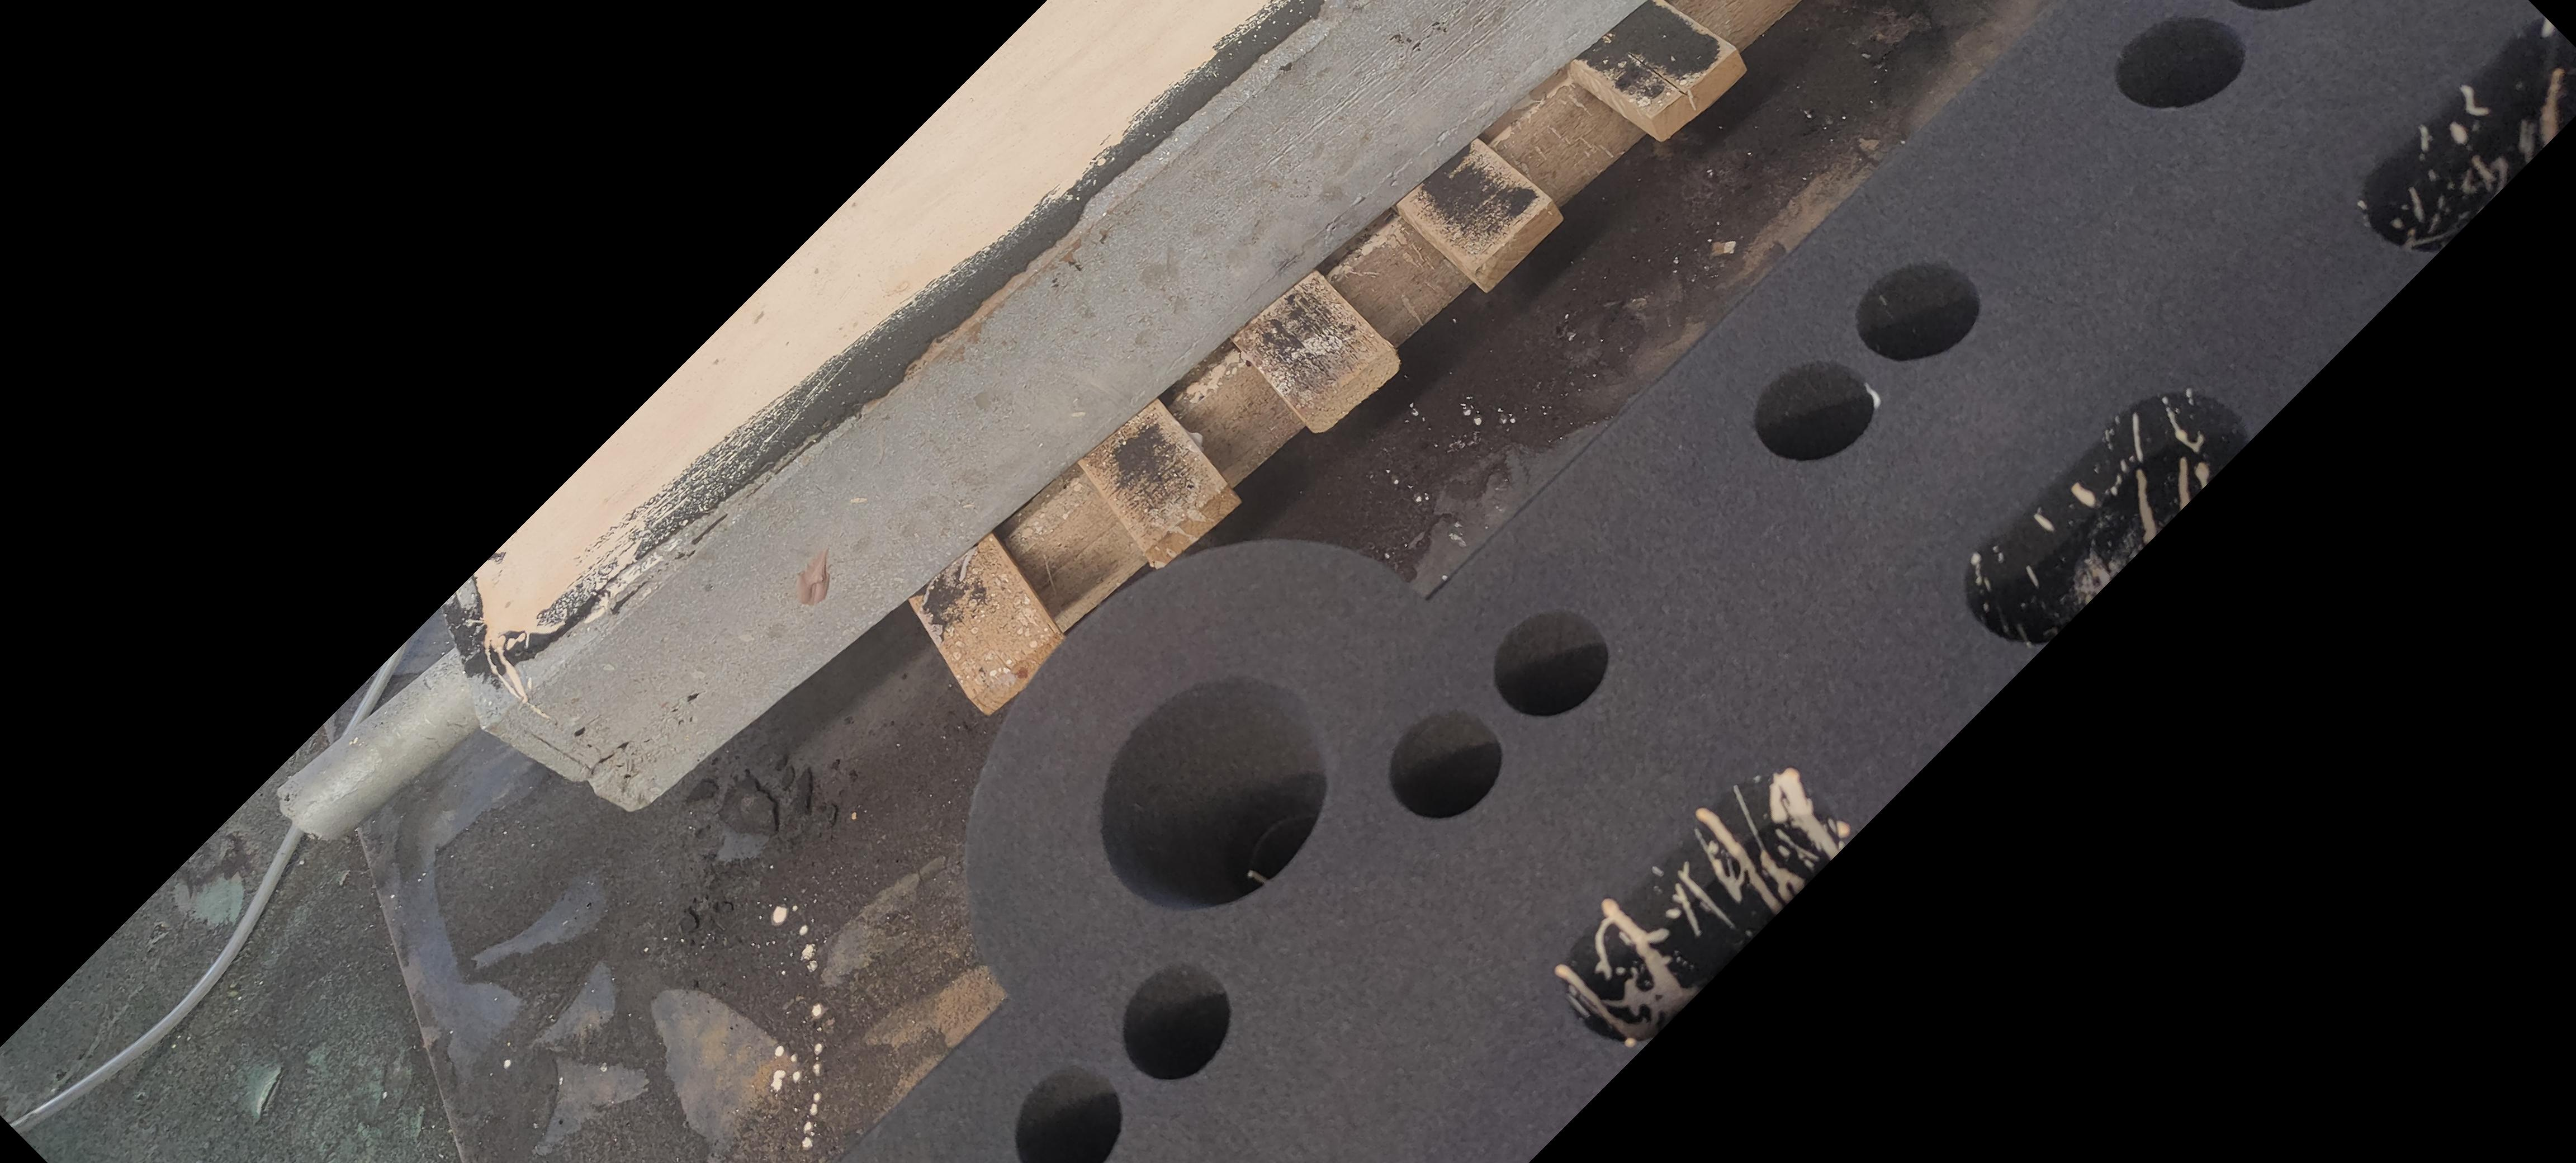pouring hole: (1101, 678, 1329, 910)
